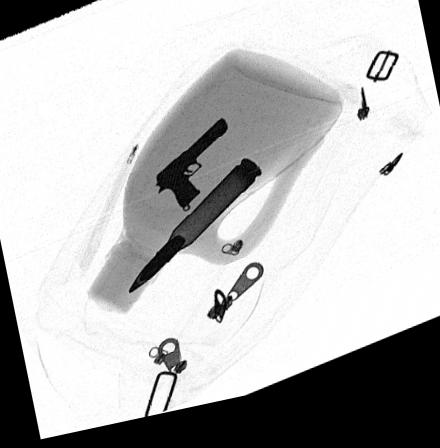Bullet: (127, 166, 261, 299)
Gun: (153, 125, 228, 217)
